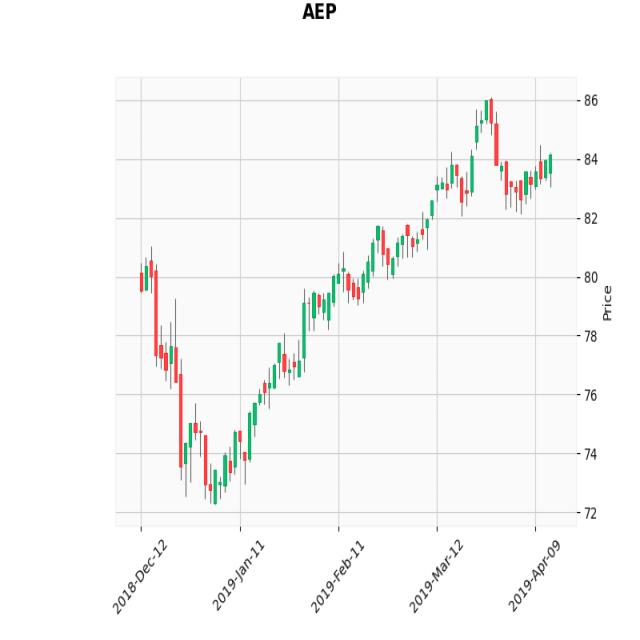Double-Bottom: (165, 358, 252, 512)
